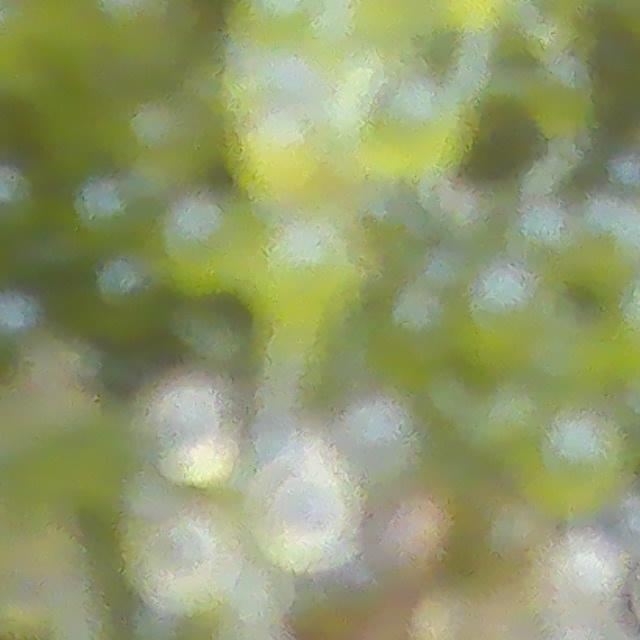SeaGrape: (247, 438, 365, 565), (127, 505, 237, 613), (137, 374, 242, 483), (351, 76, 462, 179), (256, 224, 355, 324), (534, 529, 627, 620), (225, 113, 322, 200), (536, 402, 614, 497), (175, 299, 251, 371), (159, 190, 231, 259), (72, 174, 139, 245), (469, 261, 537, 329), (593, 491, 640, 556), (95, 255, 147, 311), (0, 283, 41, 345)
